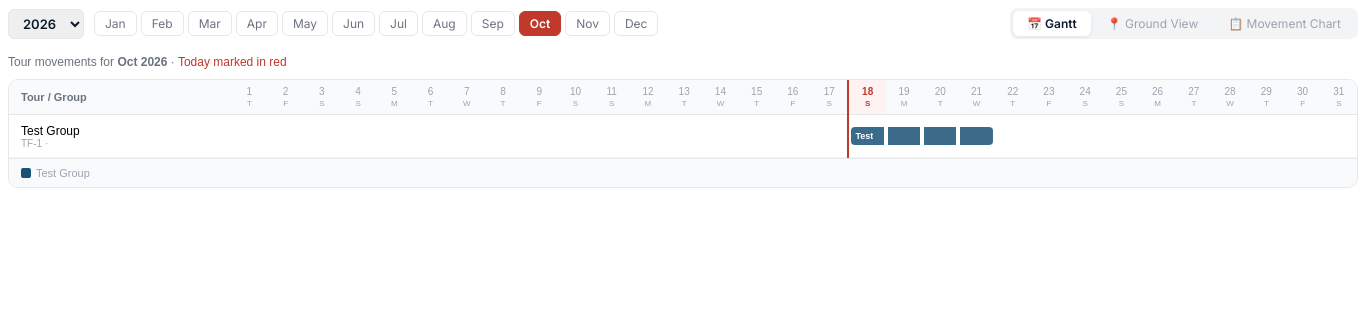
Scenario: Movement Chart field selector › checking Arr. Flight shows the real flight detail for the row
Click the button "📋 Movement Chart". click: (1285, 24)
box: [1214, 11, 1355, 36]
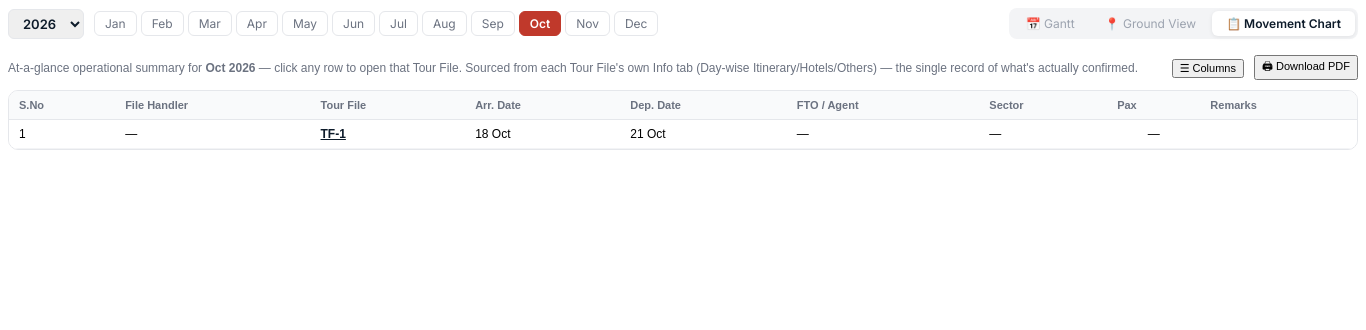
Click the button "☰ Columns". click: (1208, 68)
box: [1172, 58, 1244, 78]
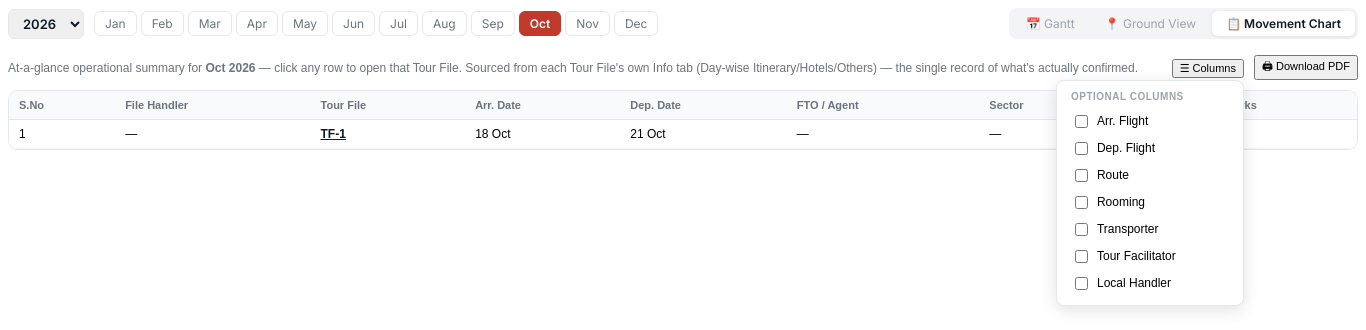
Click the checkbox labelled "Arr. Flight". click: (1082, 121)
box: [1075, 114, 1088, 128]
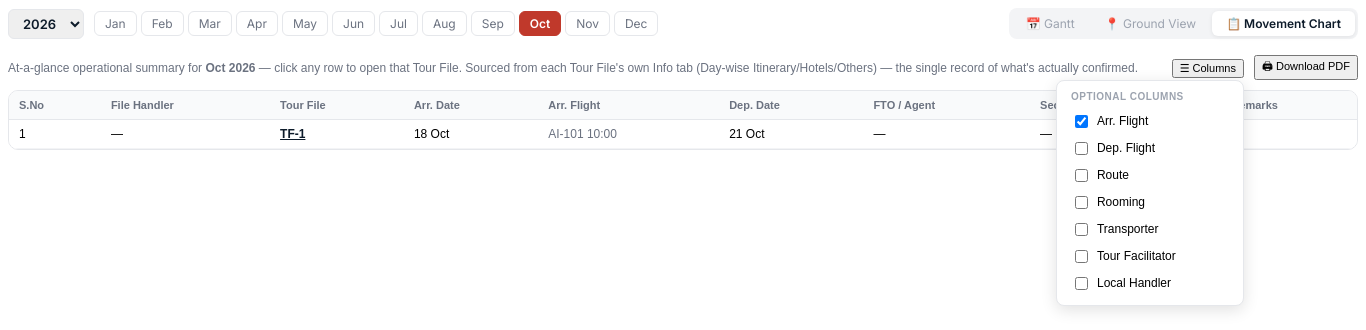
Expected: the text "AI-101 10:00" is shown, [538, 120, 719, 148]
